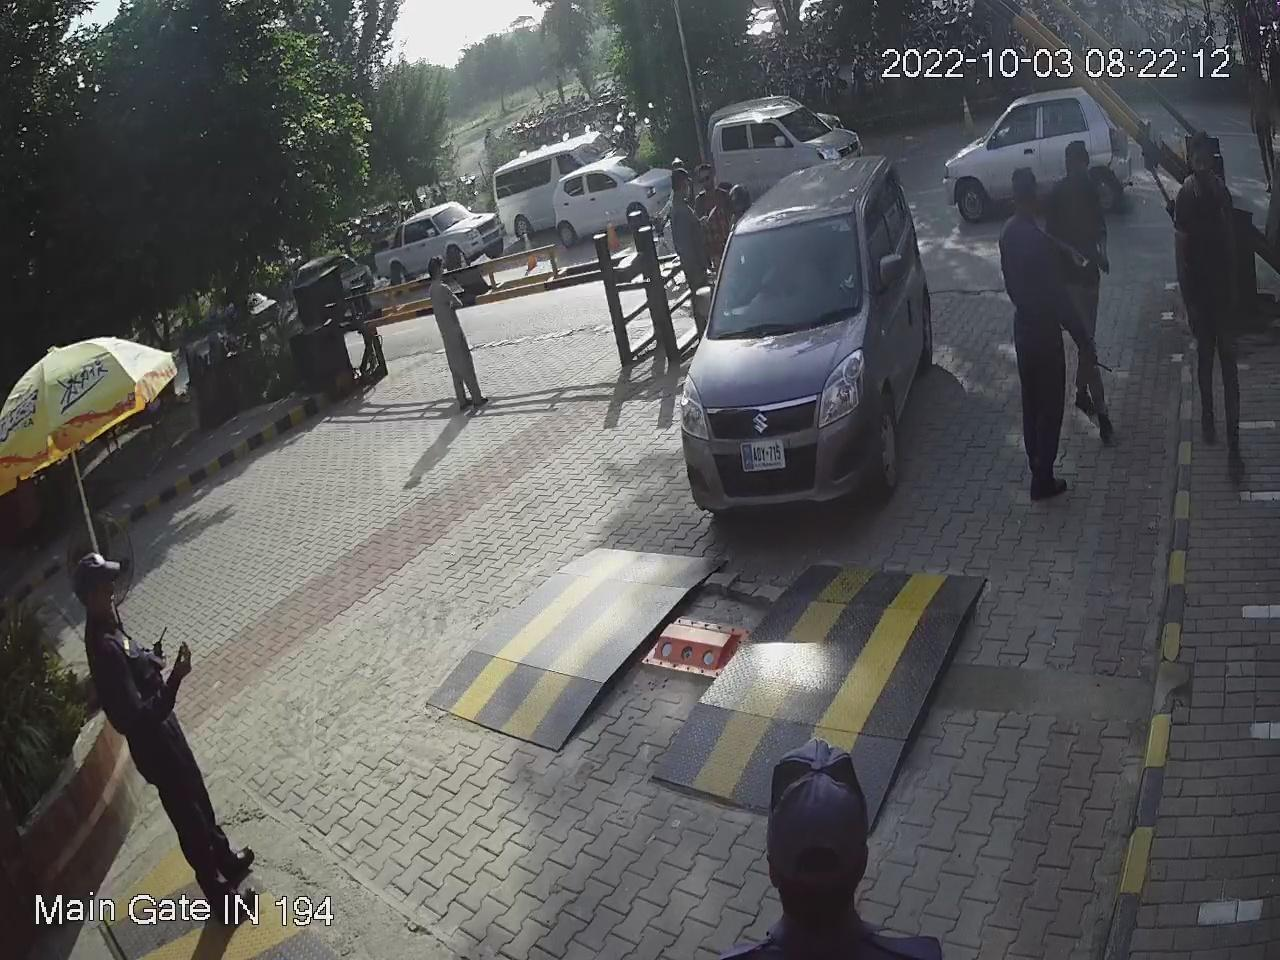windshield: (702, 190, 866, 333)
